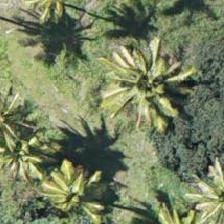coconut_tree: (116, 35, 206, 125), (26, 141, 116, 223), (0, 107, 72, 197), (0, 80, 45, 170)
